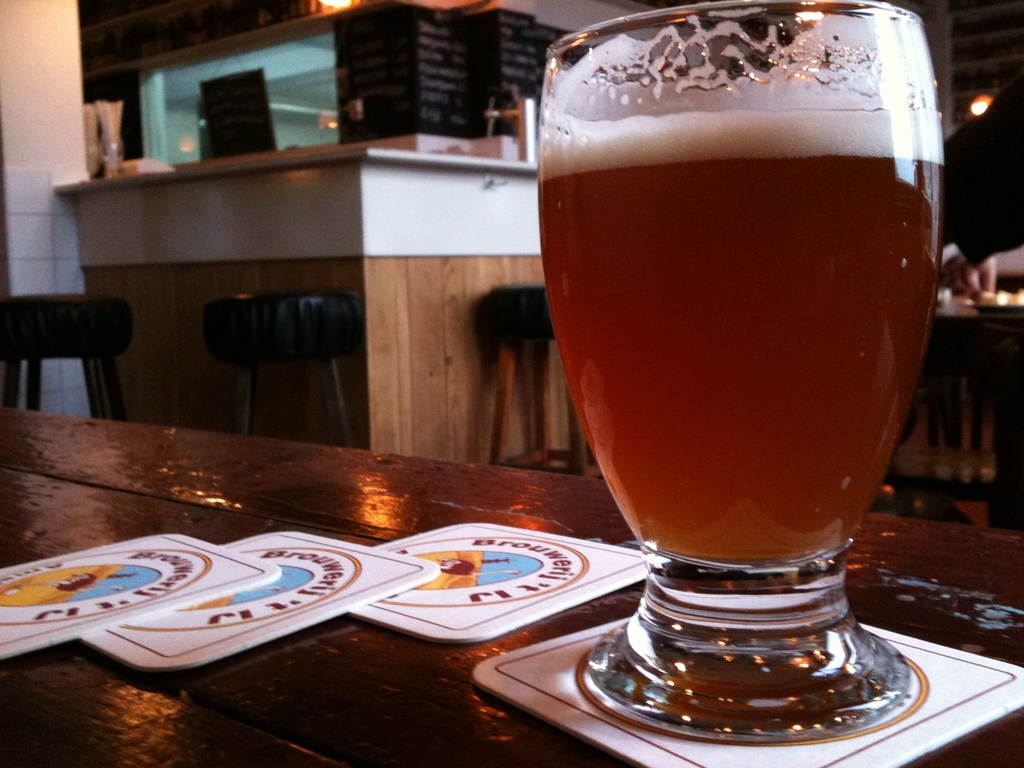Beer: (538, 46, 939, 566)
